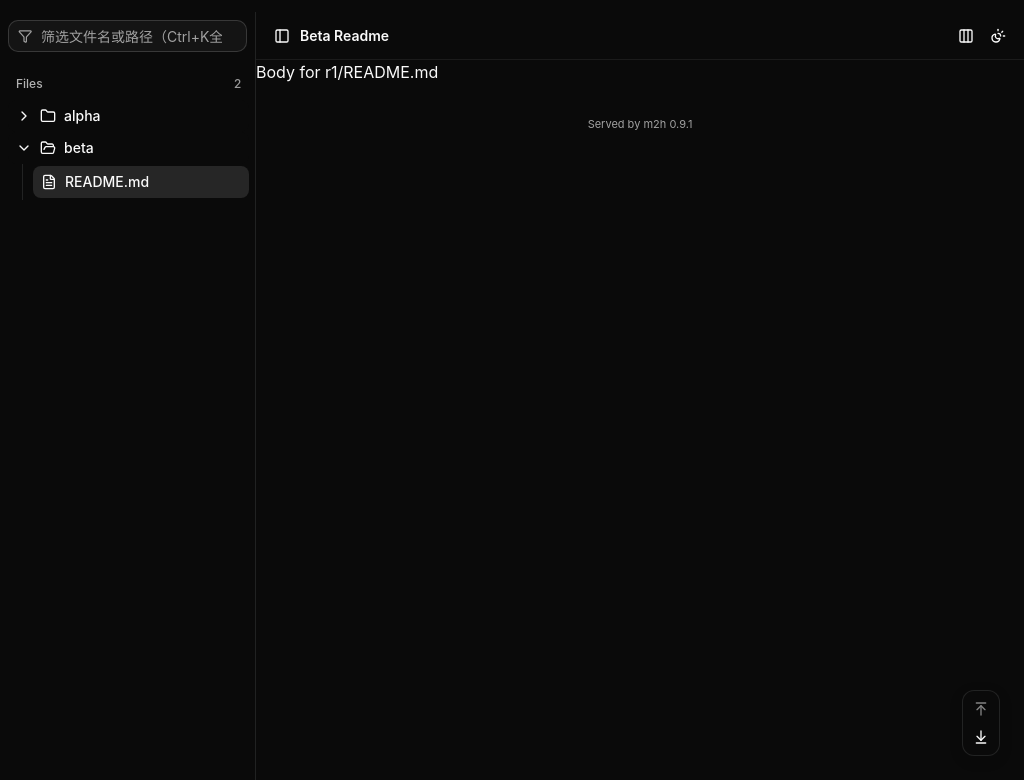
Test: App directory preview › restores per-root scroll positions independently after a reload
The image size is (1024, 780).
Expected: the text "Body for r1/README.md" is shown, x1=256 y1=62 x2=438 y2=82
Click the button "alpha".
click(129, 116)  # box x1=8 y1=100 x2=249 y2=132
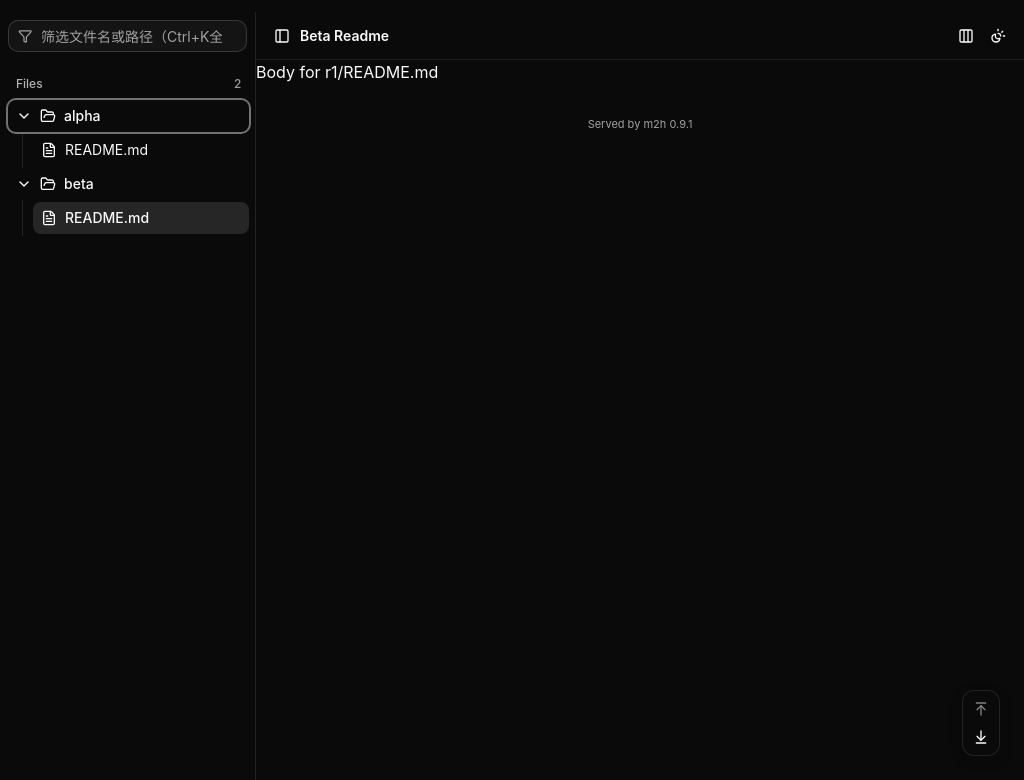
Click the button with aria-label "README.md，r0/README.md".
click(141, 150)  # box x1=33 y1=134 x2=249 y2=166
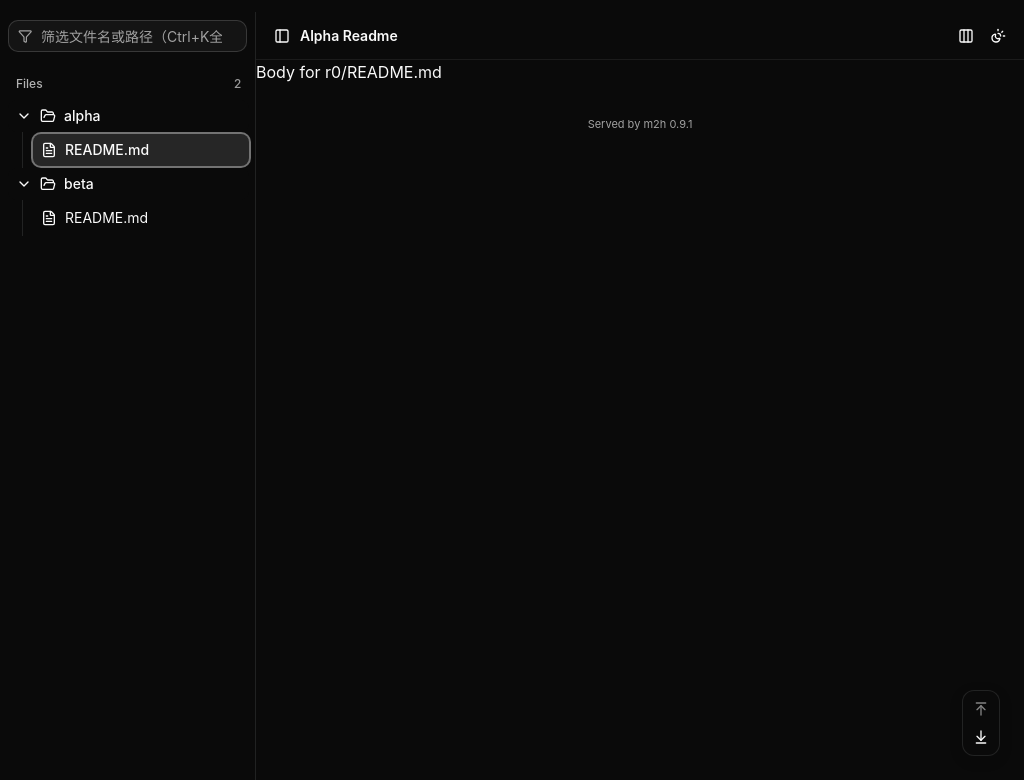
Result: the text "Body for r0/README.md" is shown at x1=256 y1=62 x2=442 y2=82
